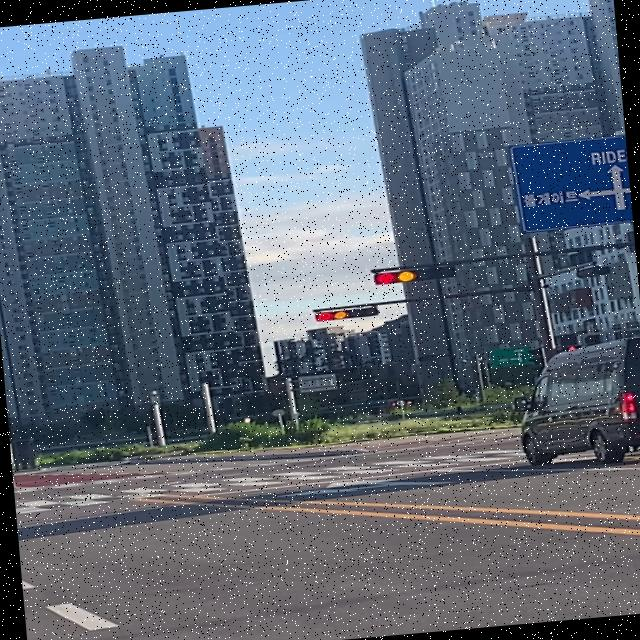yellow_light: (372, 266, 458, 286), (312, 306, 380, 322)
